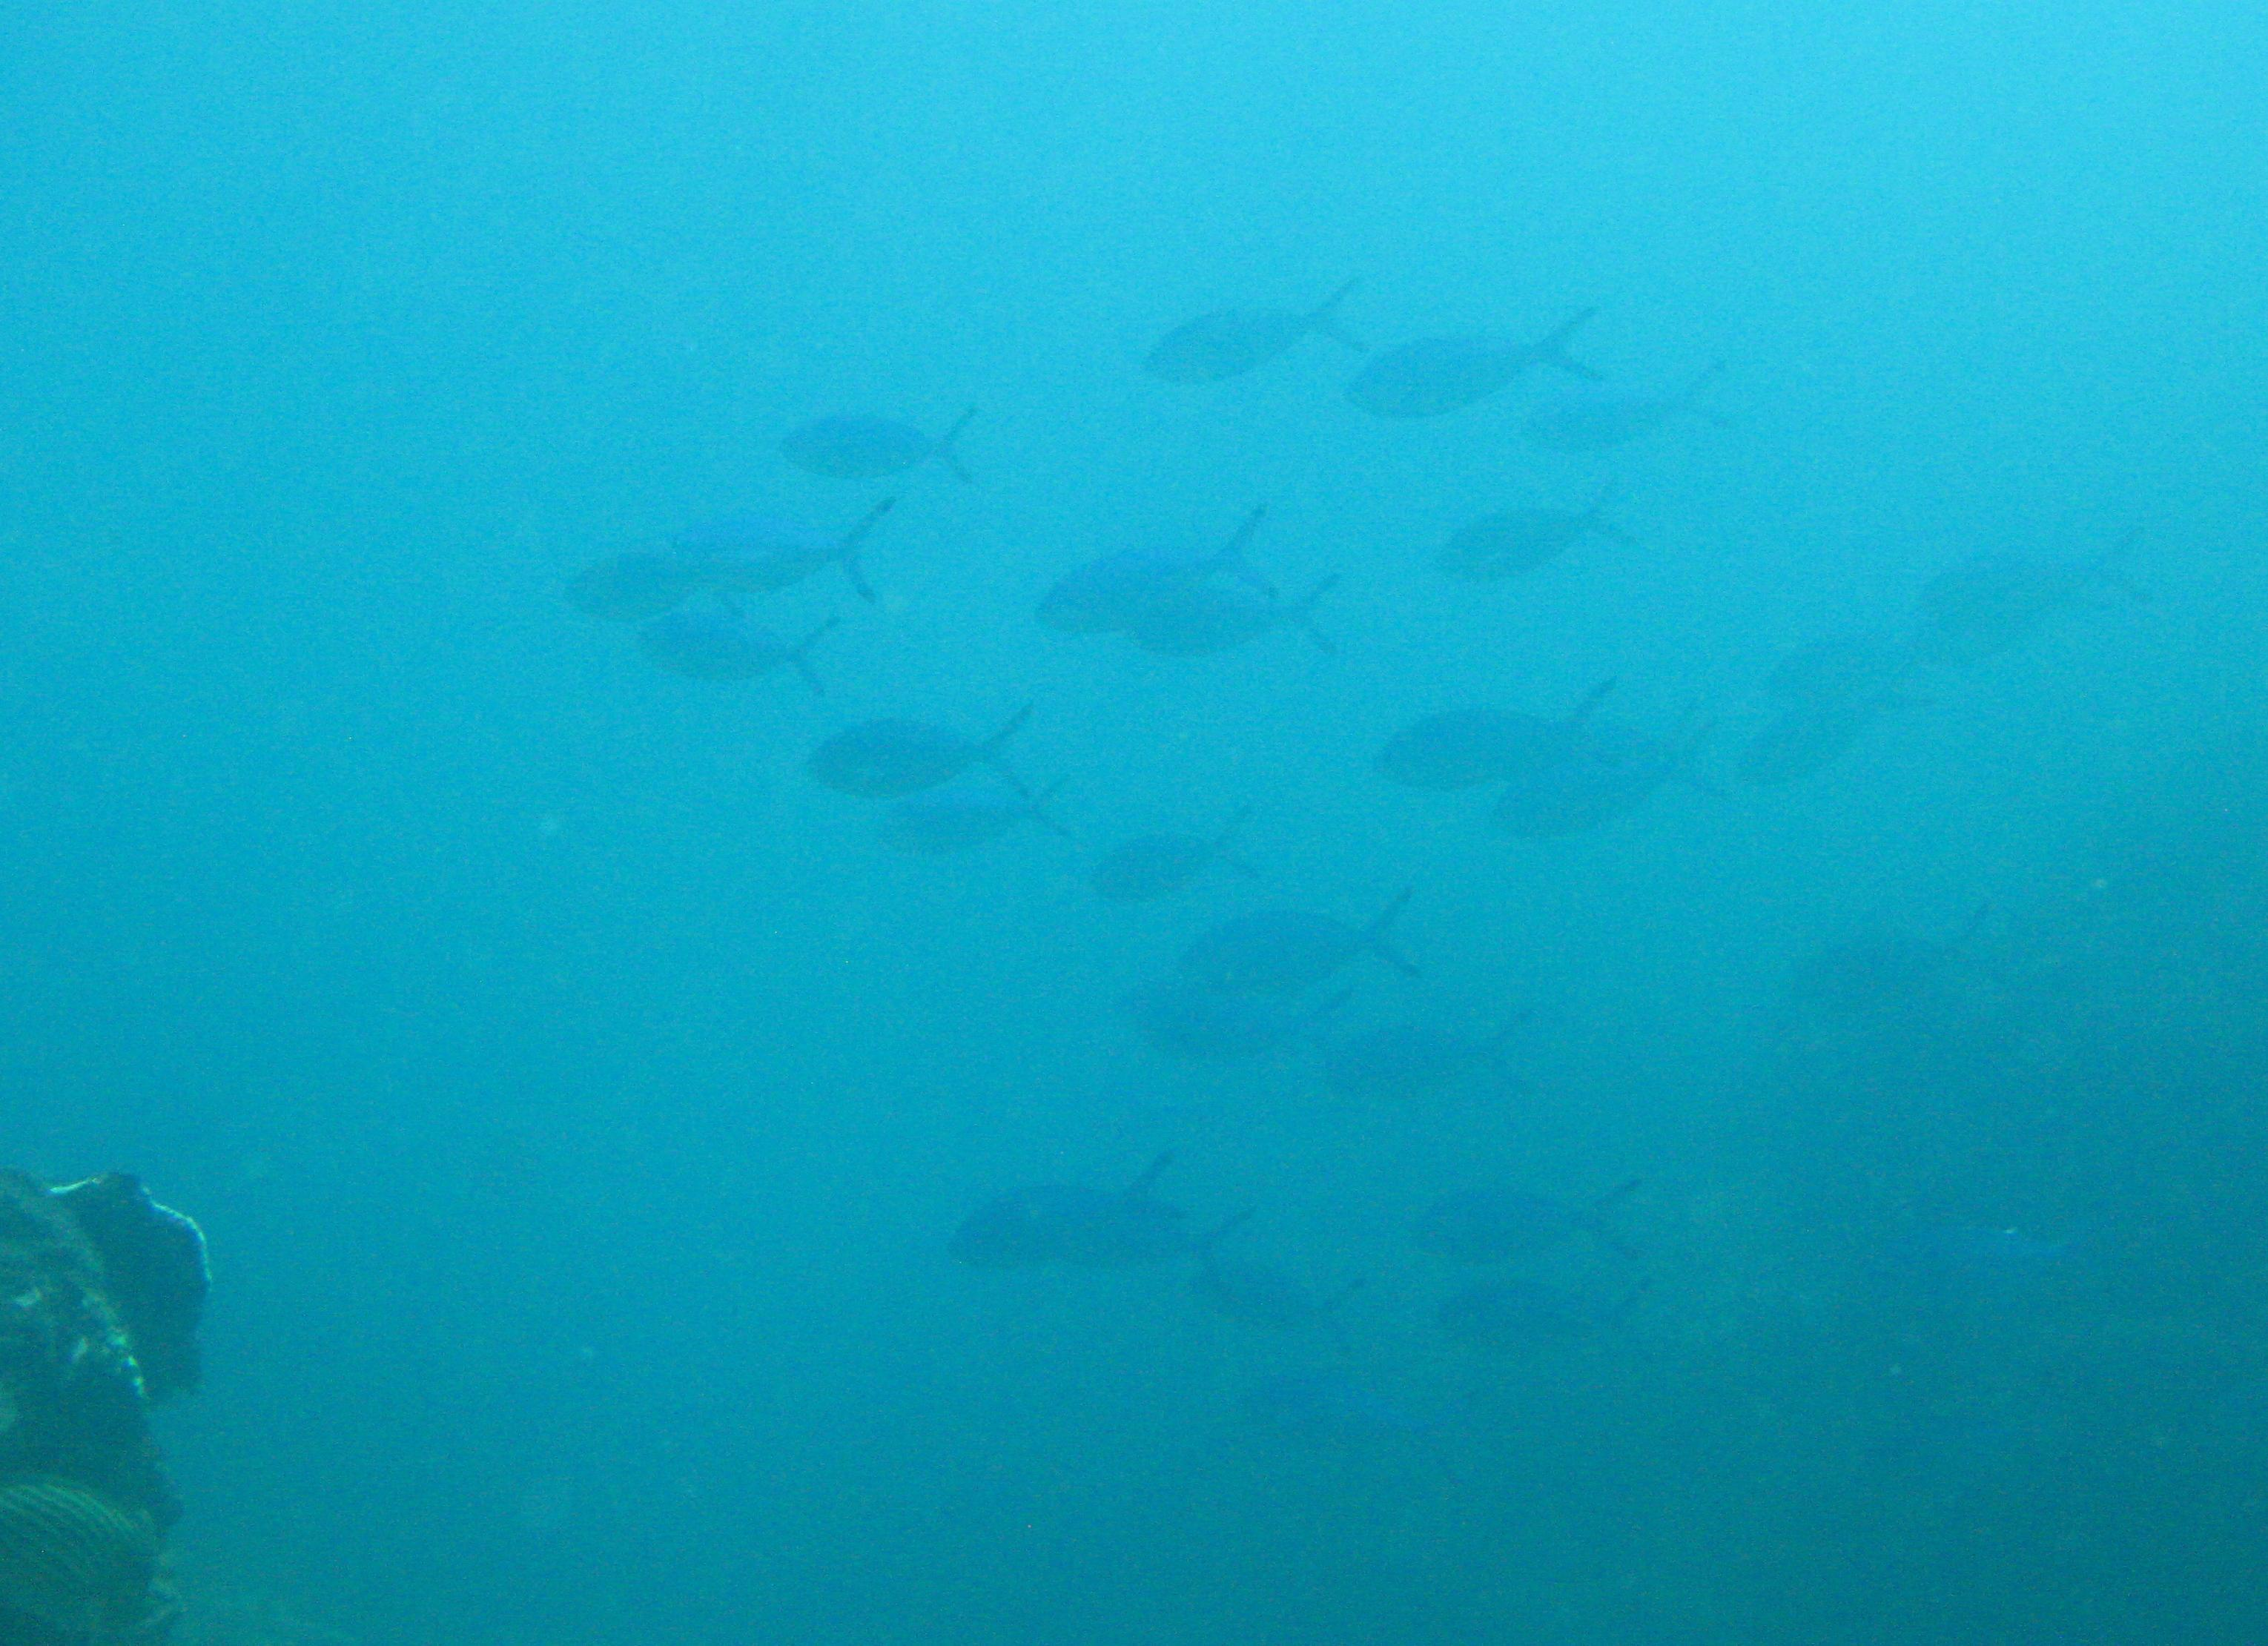Caesio lunaris: (1879, 484, 2219, 722), (1333, 1120, 1678, 1322), (602, 449, 928, 623), (1315, 290, 1629, 452), (1106, 261, 1395, 431), (995, 496, 1282, 660), (1345, 662, 1627, 813), (754, 695, 1067, 820), (1400, 475, 1661, 613), (1467, 356, 1777, 468), (750, 368, 998, 505), (861, 785, 1106, 903), (1046, 808, 1270, 924), (602, 607, 854, 709)
